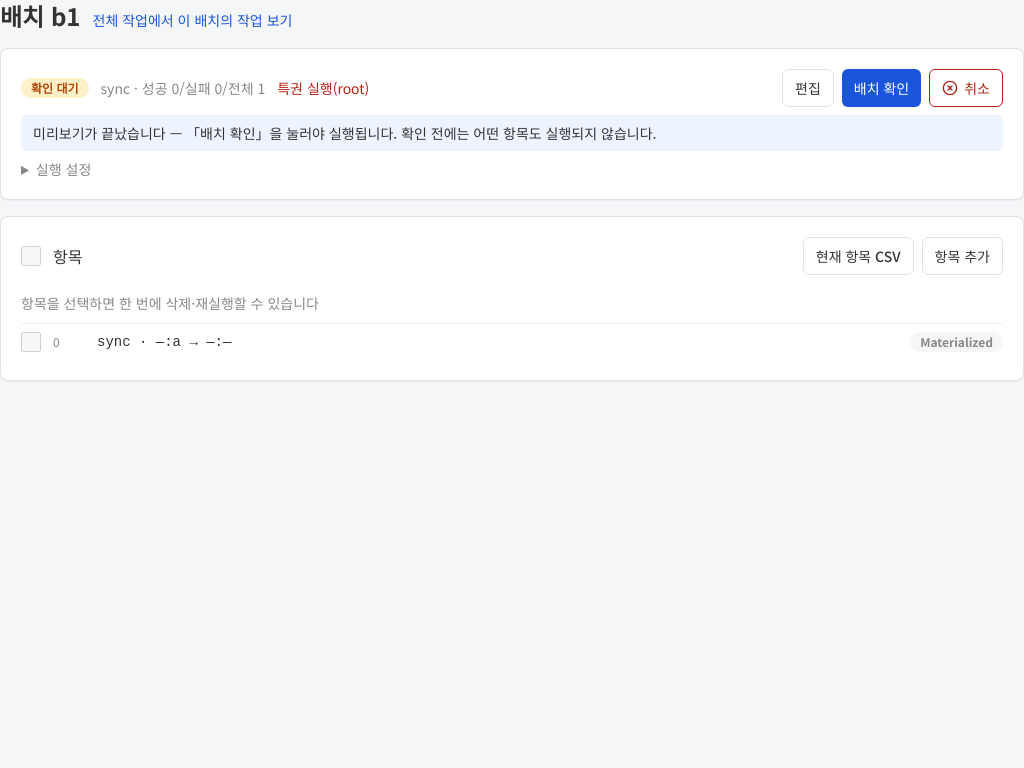
Test: 배치 확인 대화상자: 모든 항목의 수가 모름이면 0개가 아니라 모름
The width and height of the screenshot is (1024, 768).
Click the button "배치 확인" at (882, 88), box [842,69,921,107]
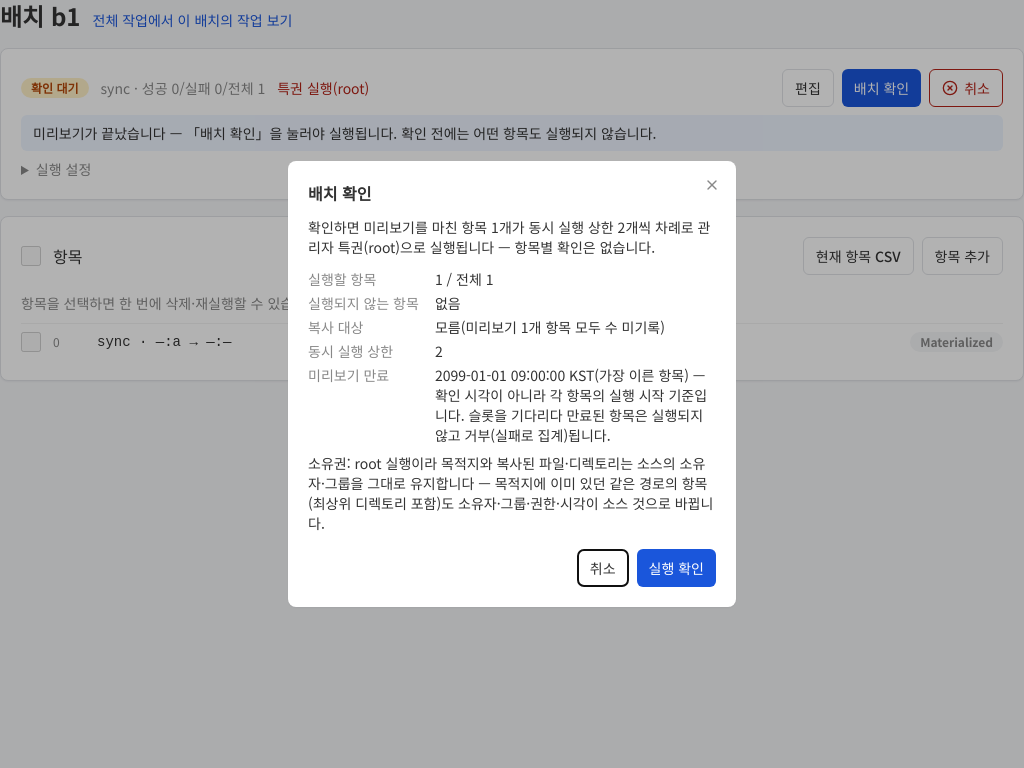
Expected: the dialog "배치 확인" does not show "0개(항목별 미리보기 합계", [288,161,736,607]
Expected: the text "모름(미리보기 1개 항목 모두 수 미기록)" is shown, [435,317,665,337]
